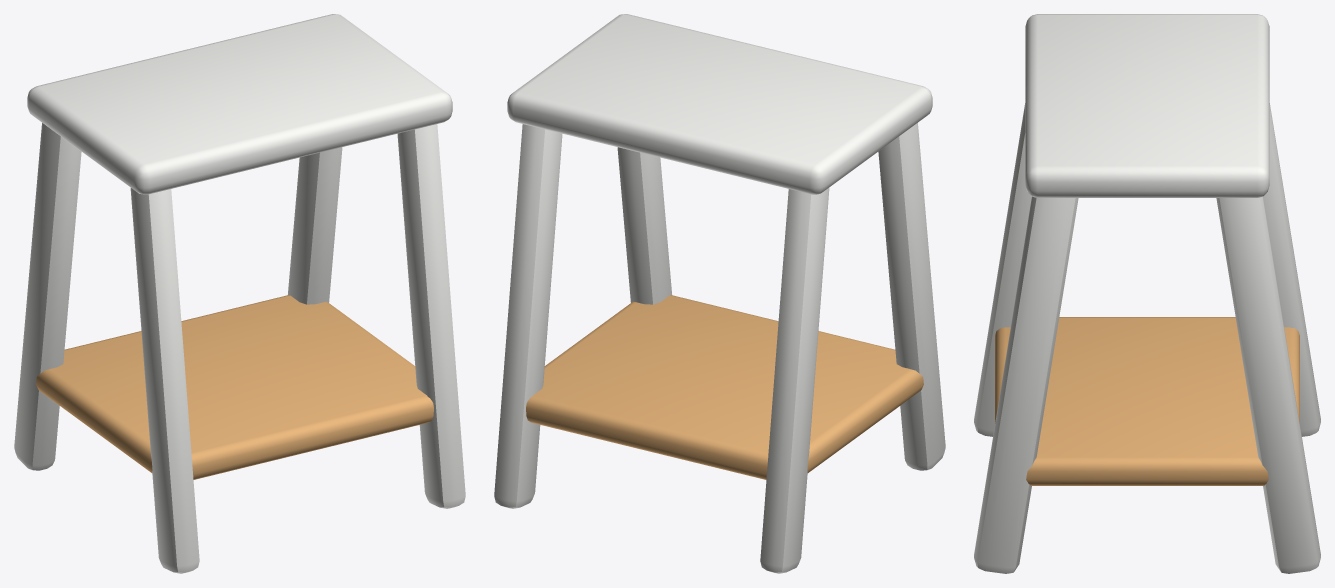
The model's file is criado_cavalete_branco.glb.
3 renders of one model, left to right at view 1: azimuth 30°, elevation 25°; view 2: azimuth 150°, elevation 25°; view 3: azimuth 270°, elevation 25°, orthographic. The views are drawn at different scales.
Visible parts, largest first — view 1: criado_cavalete_branco; view 2: criado_cavalete_branco; view 3: criado_cavalete_branco.
Boxes of the visible parts, x1=… form: criado_cavalete_branco: x1=14, y1=14, x2=465, y2=573; criado_cavalete_branco: x1=494, y1=14, x2=945, y2=573; criado_cavalete_branco: x1=974, y1=14, x2=1320, y2=573.
Bounding box in the file's own units: 0.5 × 0.598 × 0.4547.
1 material, 1 textured.
